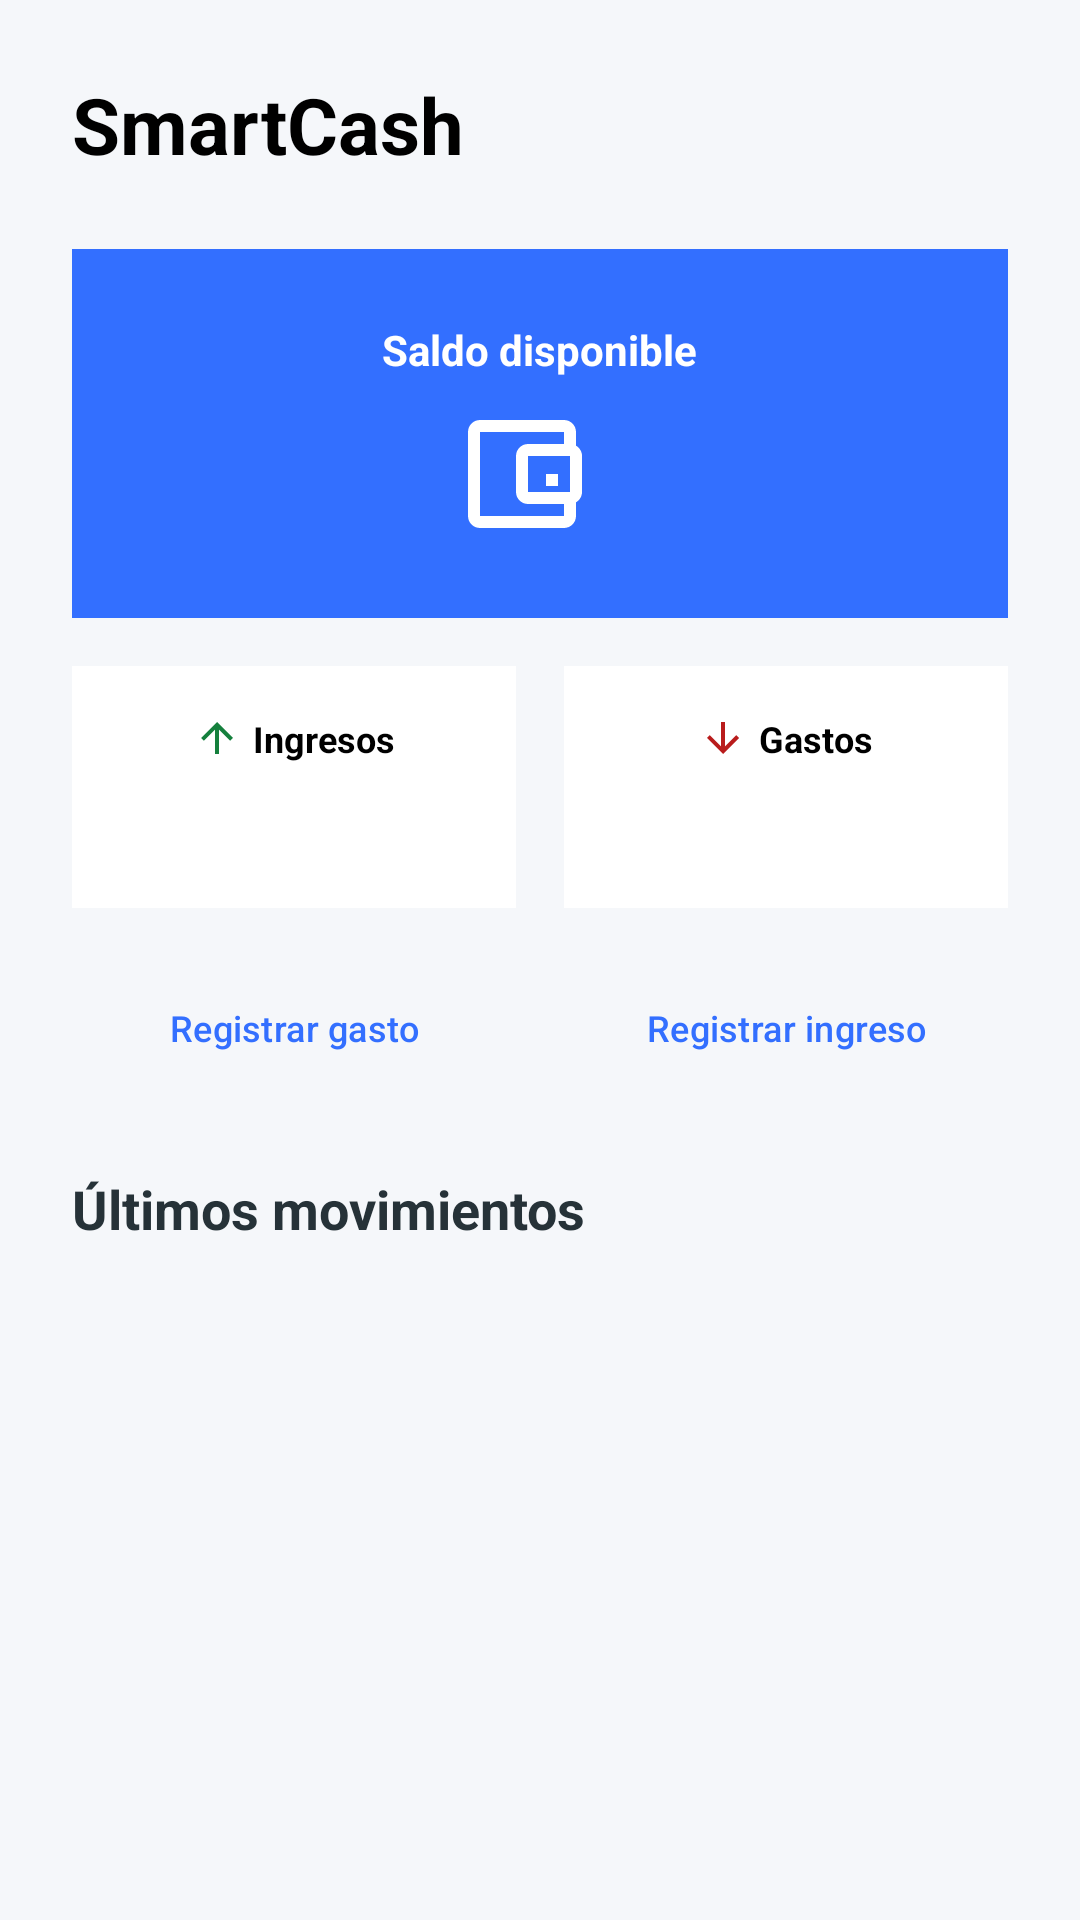

Named icons in this screenshot (1080x1920) and their bounding boxes, region(x1, y1, x2, y2):
arrow downward: region(707, 722, 739, 754)
arrow upward: region(201, 722, 233, 754)
wallet: region(468, 420, 582, 528)
